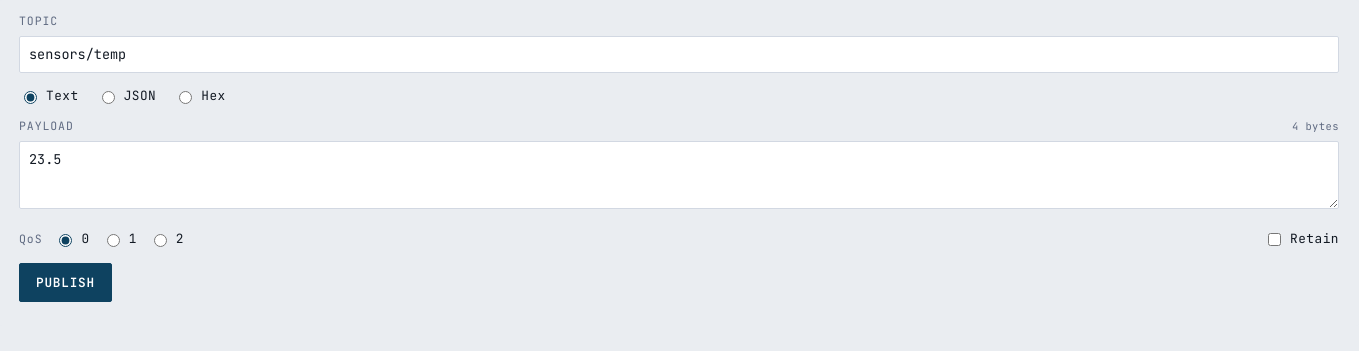
Scenario: PublishPanel › will not publish hex it cannot read, and says why
Step 1. Click the radio button labelled "Hex" → (186, 97), box [179, 91, 192, 104]
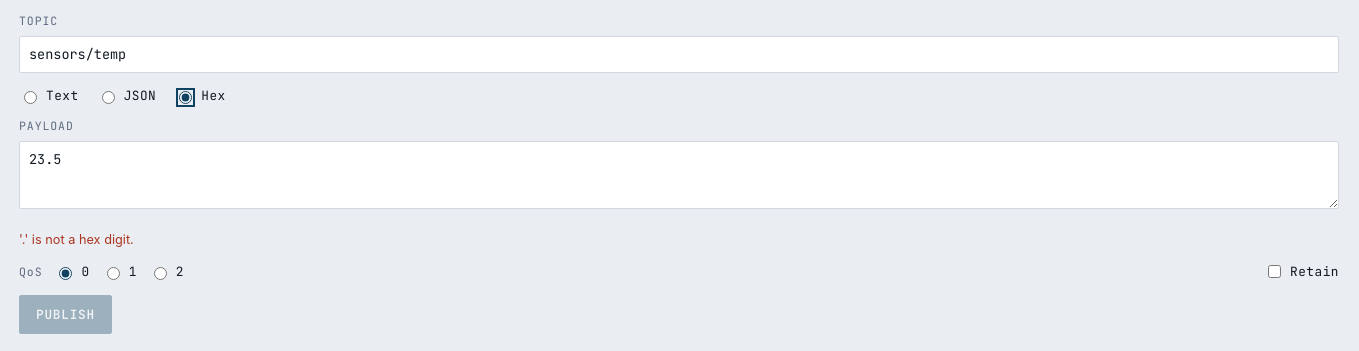
Step 2. Replace the text in the text box labelled "Payload" with "ZZ" → (679, 175), box [19, 141, 1339, 209]
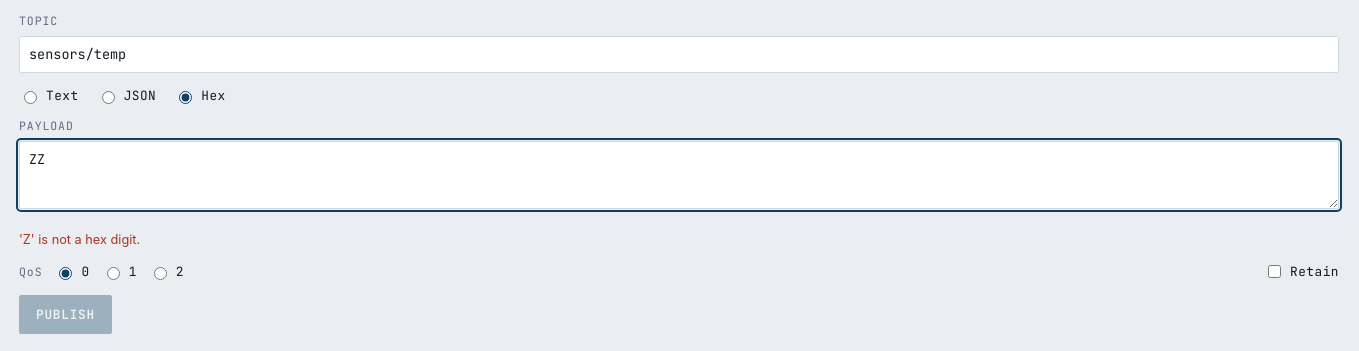
Expected: the button "Publish" is disabled, [19, 295, 112, 334]
Now the text "'Z' is not a hex digit." is shown, box [19, 232, 140, 246]
